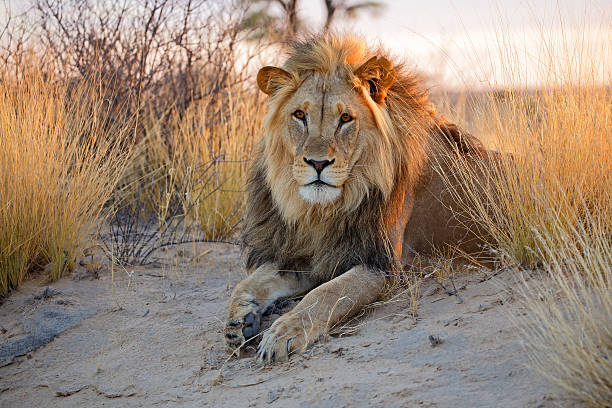lion: (213, 28, 446, 313)
